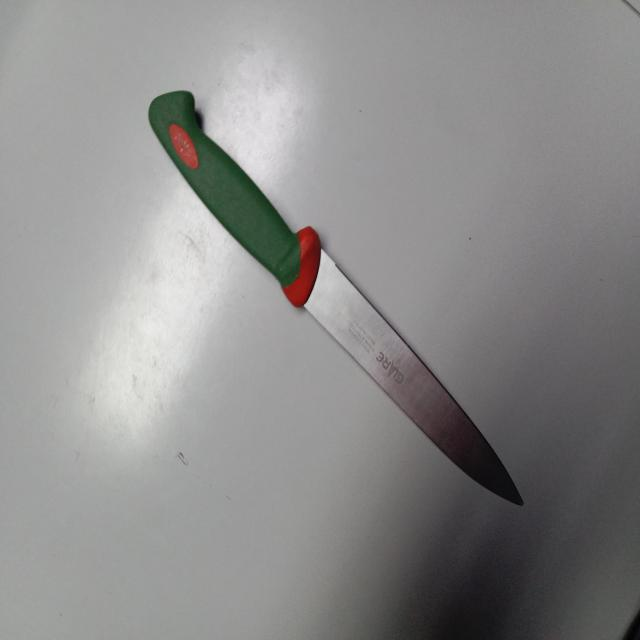Knife: (148, 90, 524, 501)
